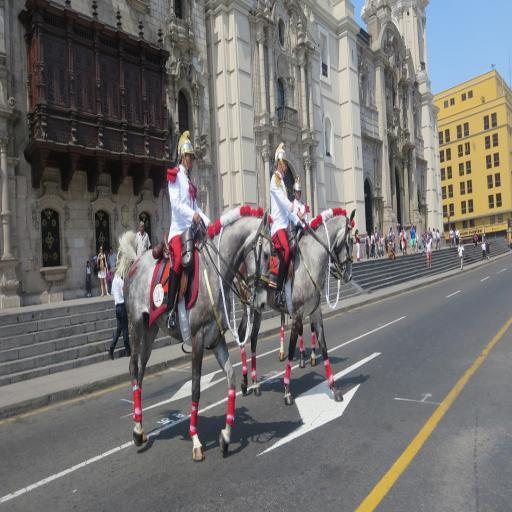horse: (122, 209, 274, 465), (238, 209, 356, 404), (278, 312, 318, 368)
